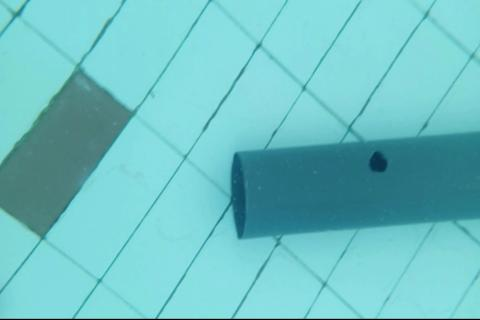kebocoran: (368, 149, 389, 174)
